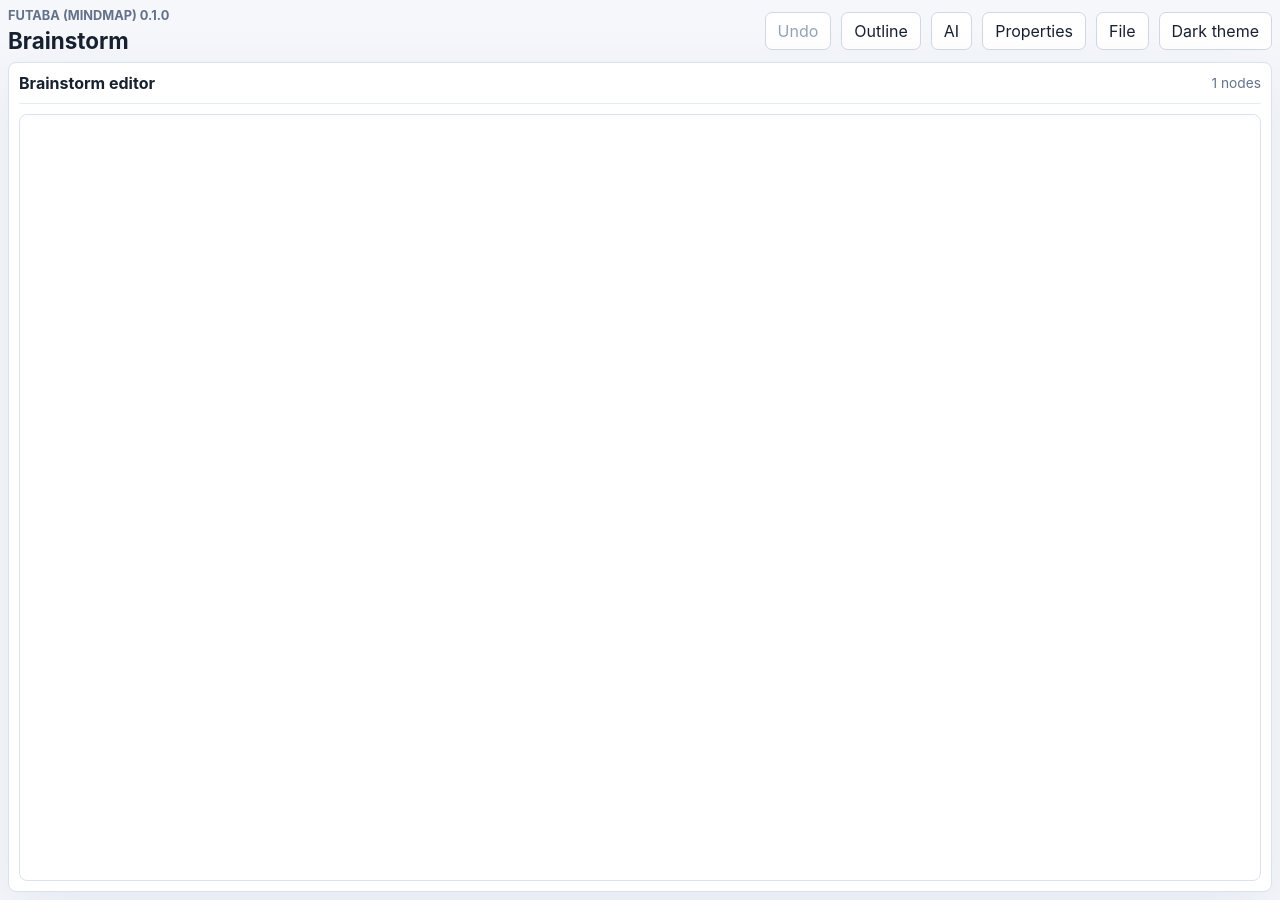
App › resets current editing data
Click the button "Properties" at (1034, 31), box [982,12,1086,50]
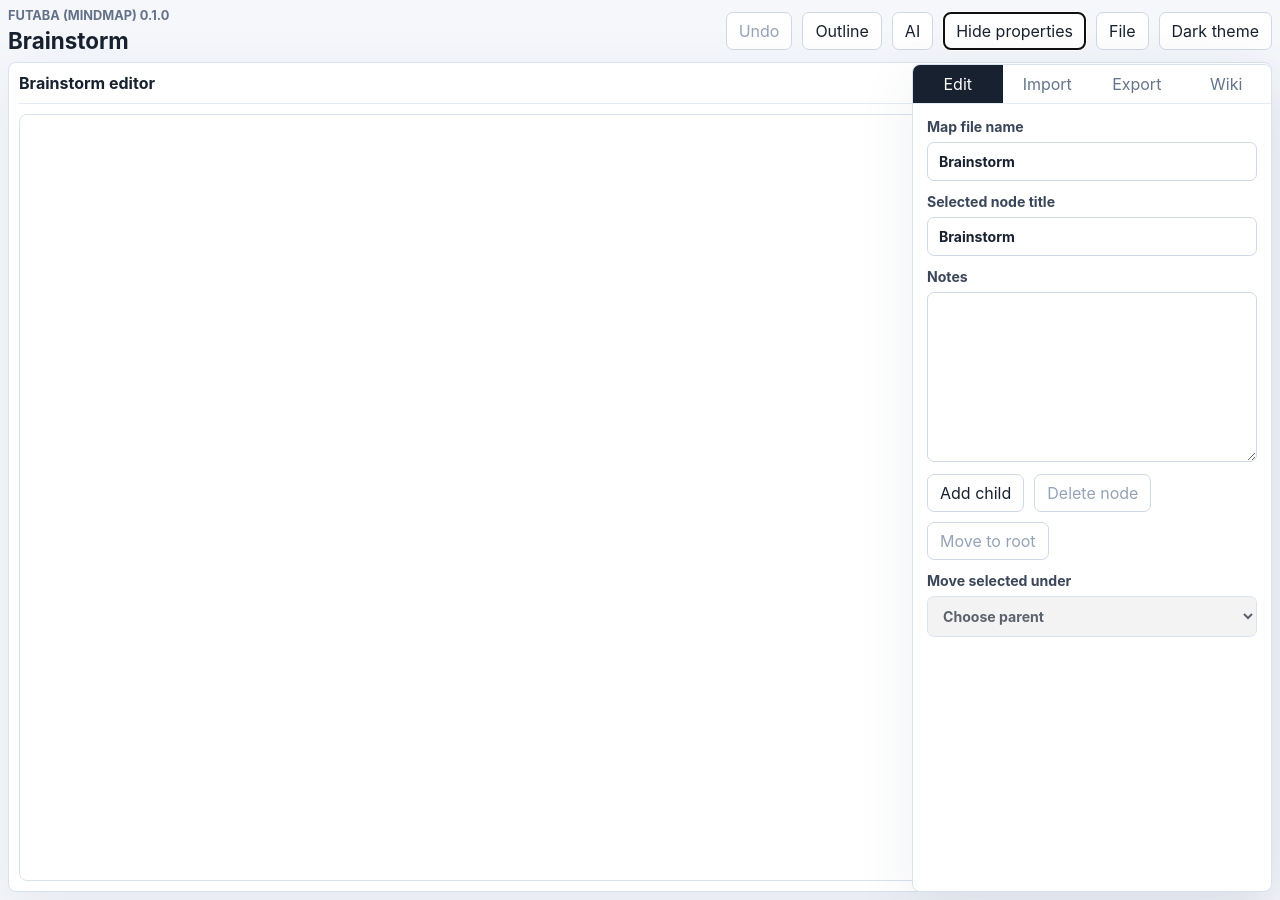
Replace the text in the field labelled "Selected node title" with "Temporary Map" at (1092, 236), box [927,217,1257,256]
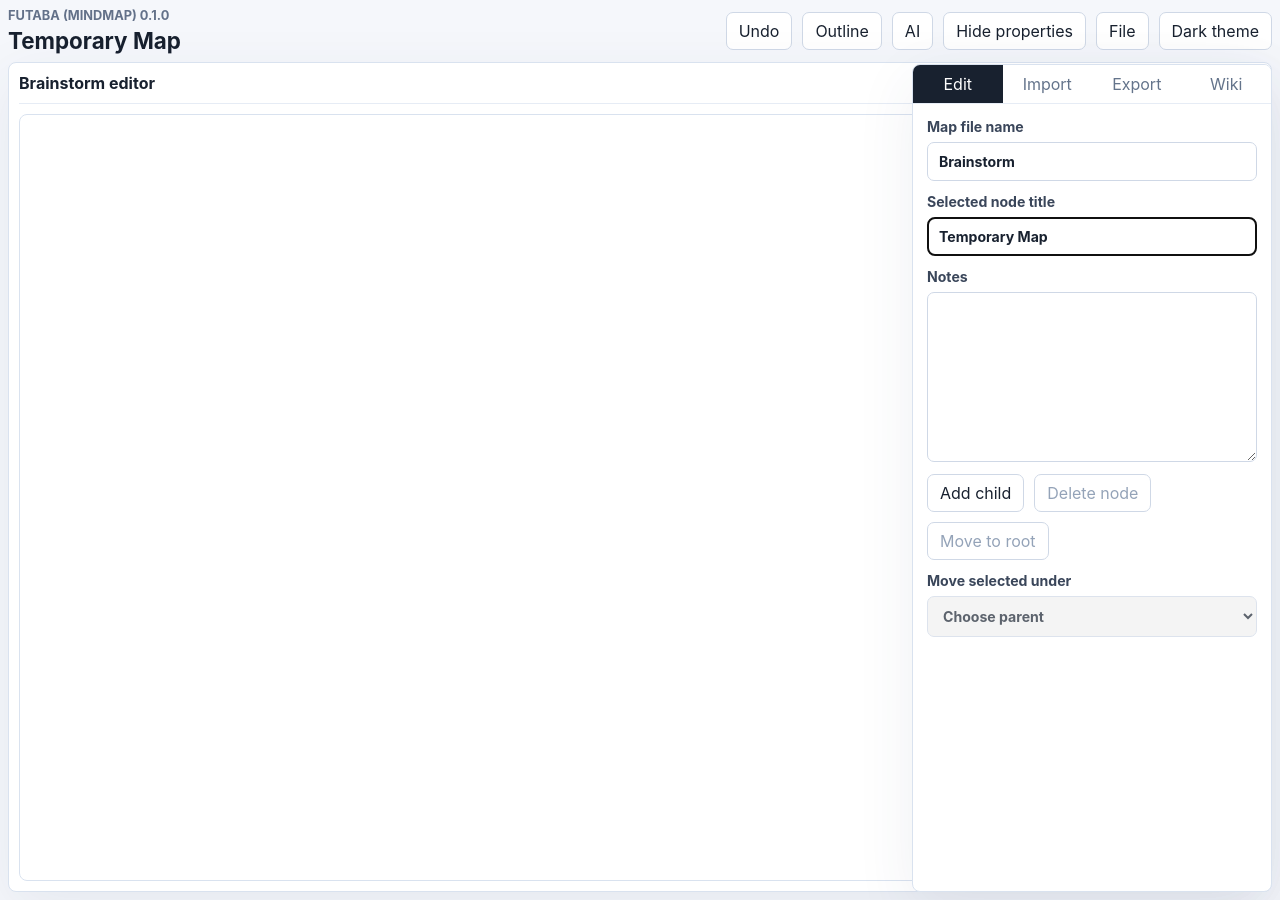
Click the button "File" at (1122, 31), box [1096,12,1148,50]
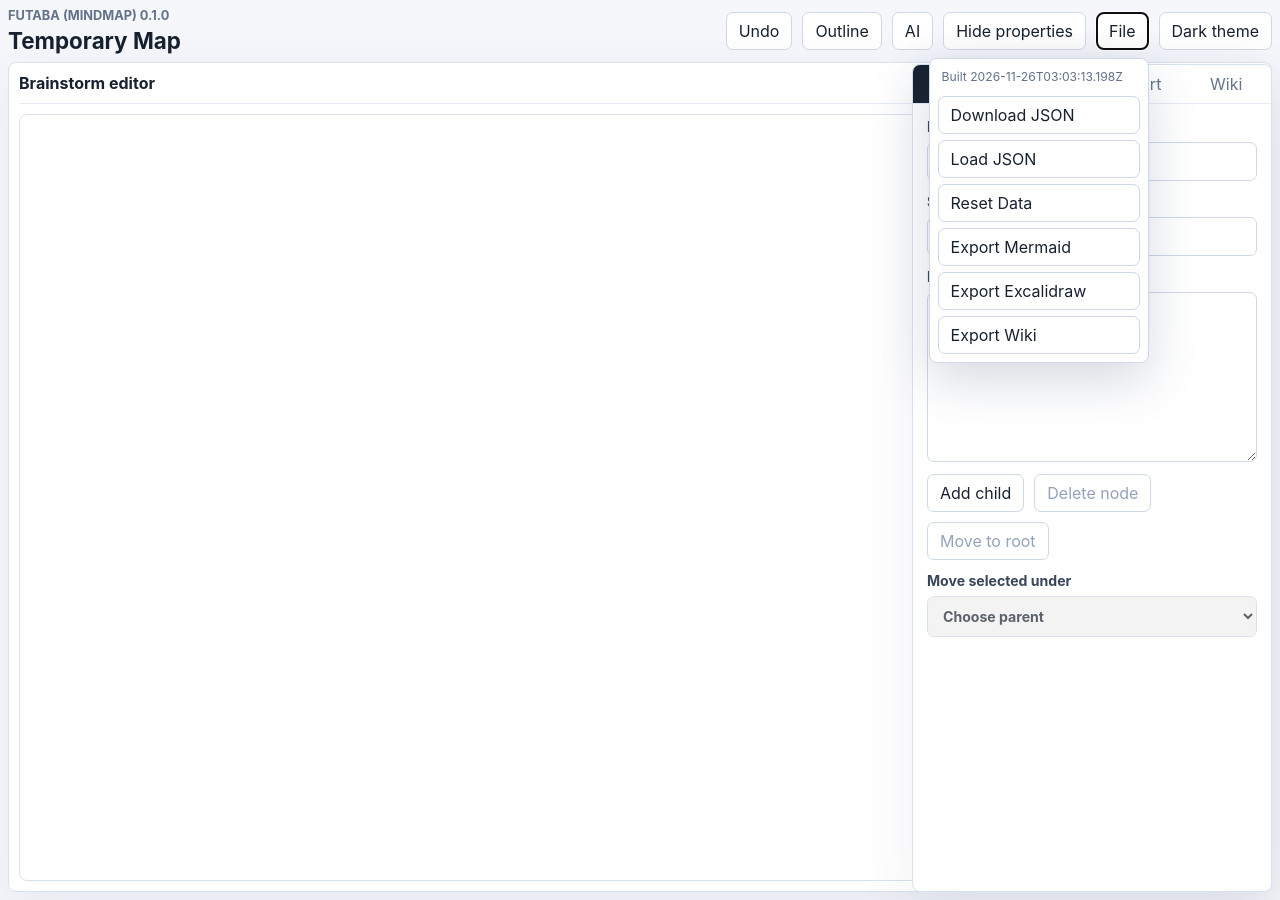
Click the menu item "Reset Data" at (1038, 203), box [938,184,1140,222]
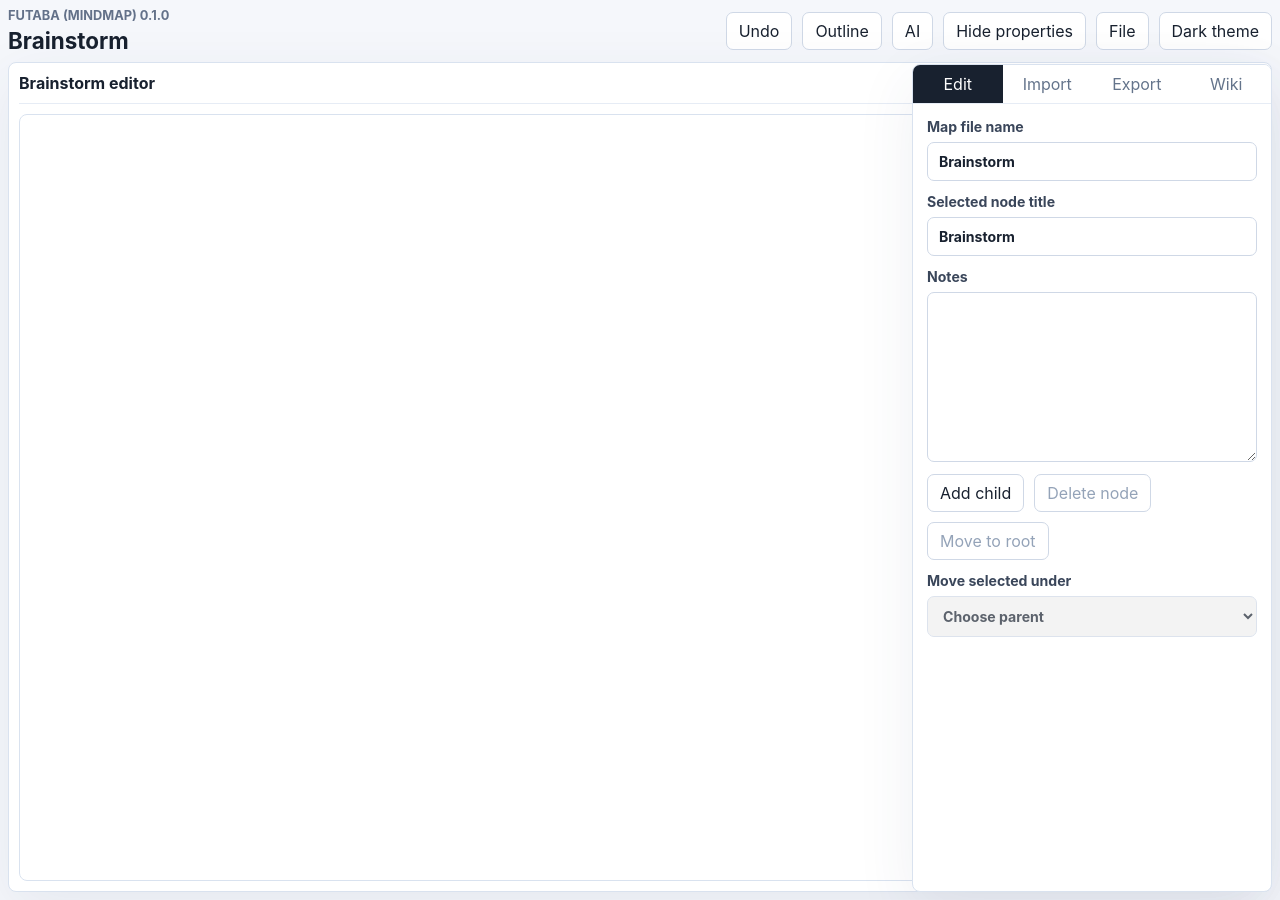
Expected: the heading "Brainstorm" is shown, [8,27,129,54]
Expected: the field labelled "Selected node title" holds "Brainstorm", [927,217,1257,256]
